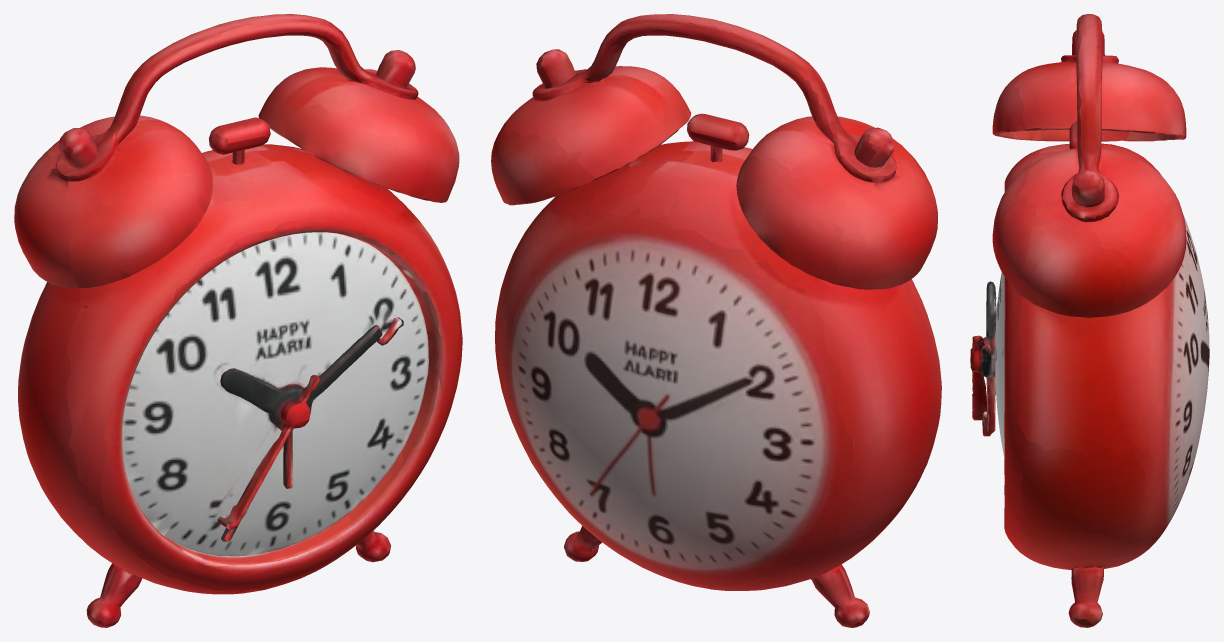
Rendered from clock.glb.
3 renders of one model, left to right at view 1: azimuth 30°, elevation 25°; view 2: azimuth 150°, elevation 25°; view 3: azimuth 270°, elevation 25°, orthographic. The views are drawn at different scales.
Parts seen in each view (by area): view 1: geometry_0; view 2: geometry_0; view 3: geometry_0.
Boxes of the visible parts, bbox=[...] form: geometry_0: bbox=[14, 14, 462, 627]; geometry_0: bbox=[491, 14, 941, 627]; geometry_0: bbox=[970, 14, 1209, 627].
Size of the model in its own units: 0.1225 by 0.16 by 0.0657.
Materials: 1 (1 with a texture image).
